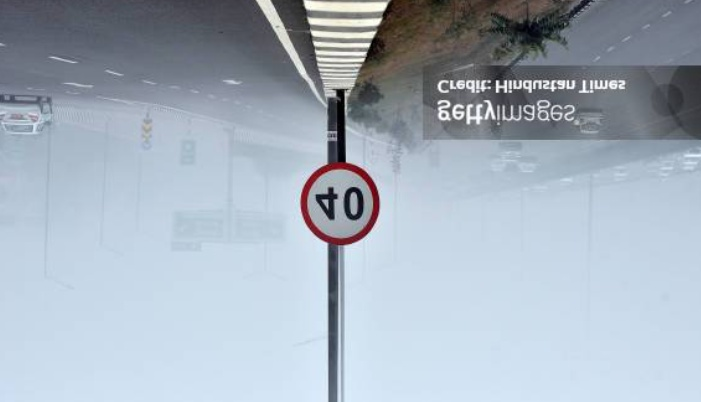Speed limit: (289, 159, 386, 242)
